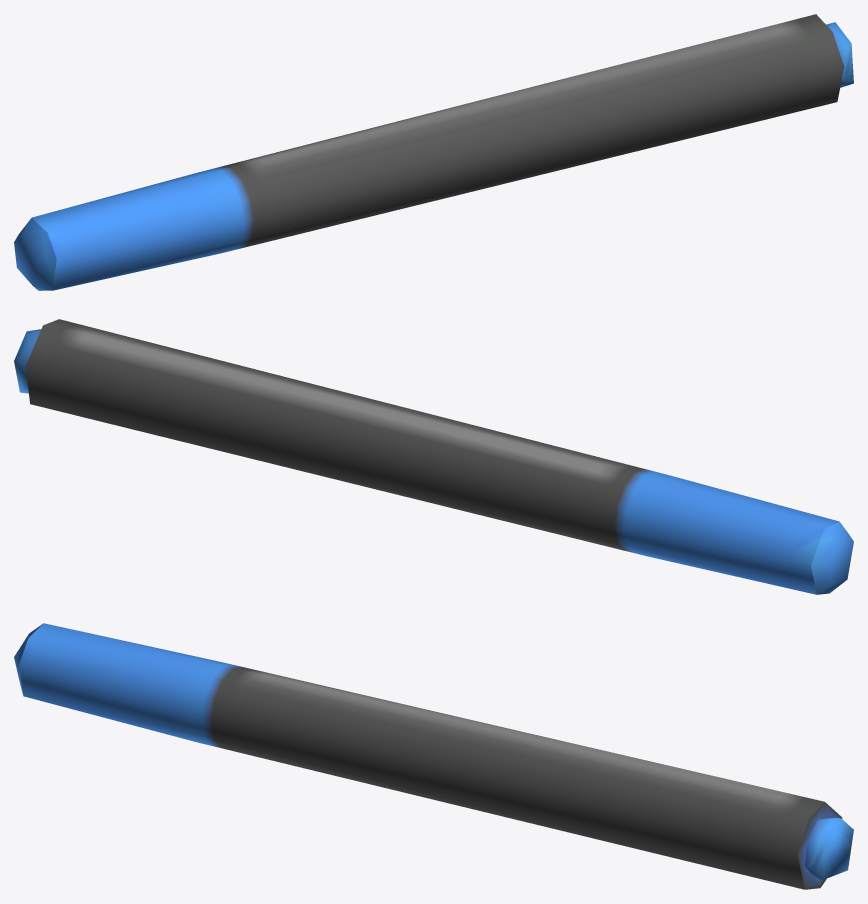
File: propPen.fbx
The picture shows the model from 3 angles, top to bottom: view 1: azimuth 30°, elevation 25°; view 2: azimuth 150°, elevation 25°; view 3: azimuth 330°, elevation 25°; orthographic projection.
Parts seen in each view (by area): view 1: propPen; view 2: propPen; view 3: propPen.
Part boxes in pixels (<box>): propPen: <box>14,14,853,290</box>; propPen: <box>14,319,853,594</box>; propPen: <box>14,623,853,889</box>.
Bounding box in the file's own units: 21.36 × 2.1 × 2.06.
Materials: 1 (1 with a texture image).
